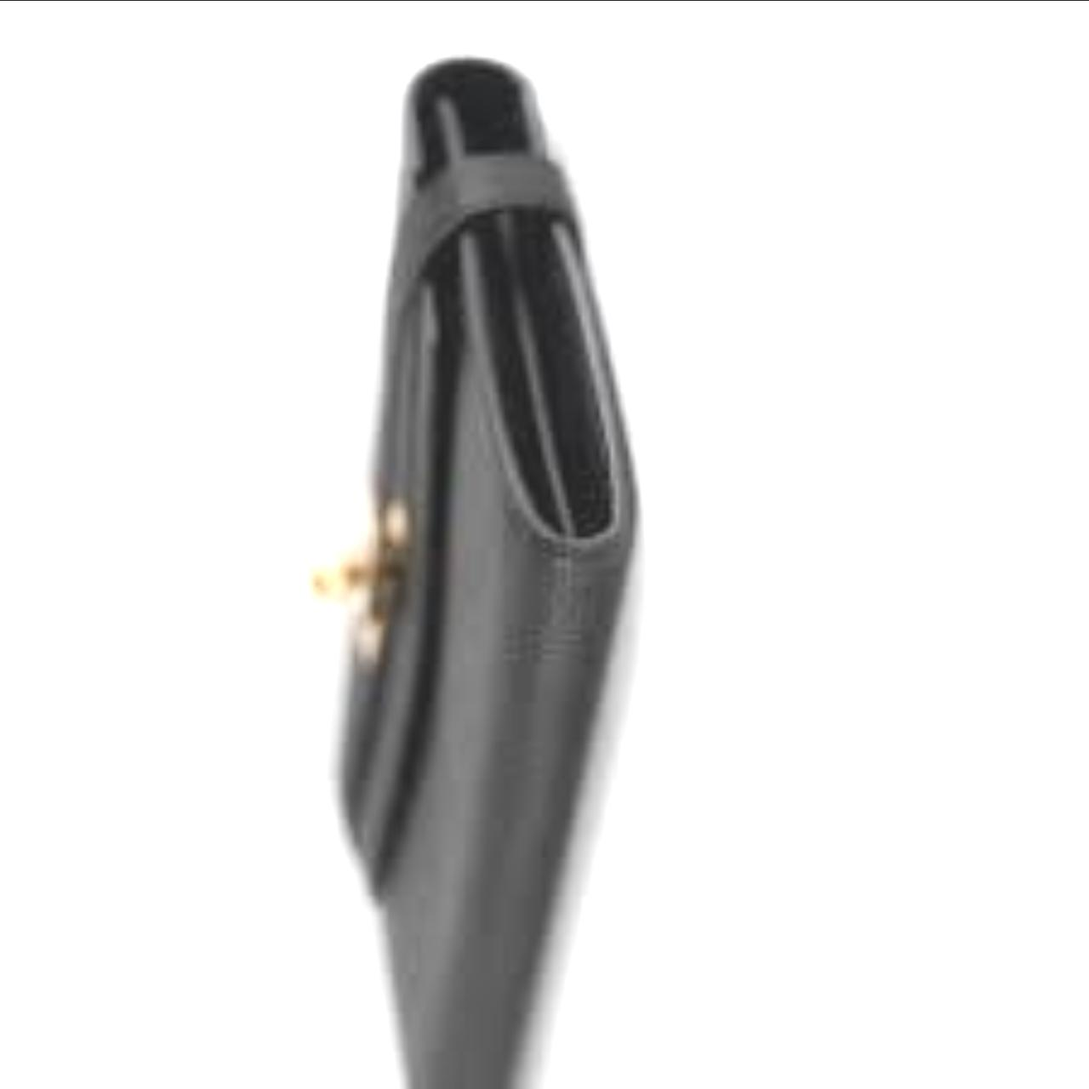wallet: (324, 0, 692, 1070)
